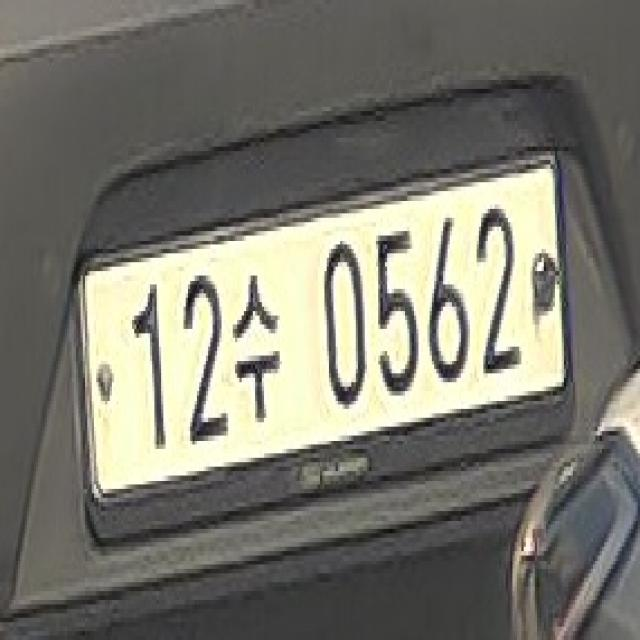0: (316, 227, 372, 436)
1: (130, 271, 174, 471)
2: (470, 187, 526, 396), (184, 267, 228, 453)
5: (372, 213, 421, 427)
6: (421, 200, 474, 413)
license_plate: (76, 138, 575, 542)
su: (233, 262, 282, 436)
